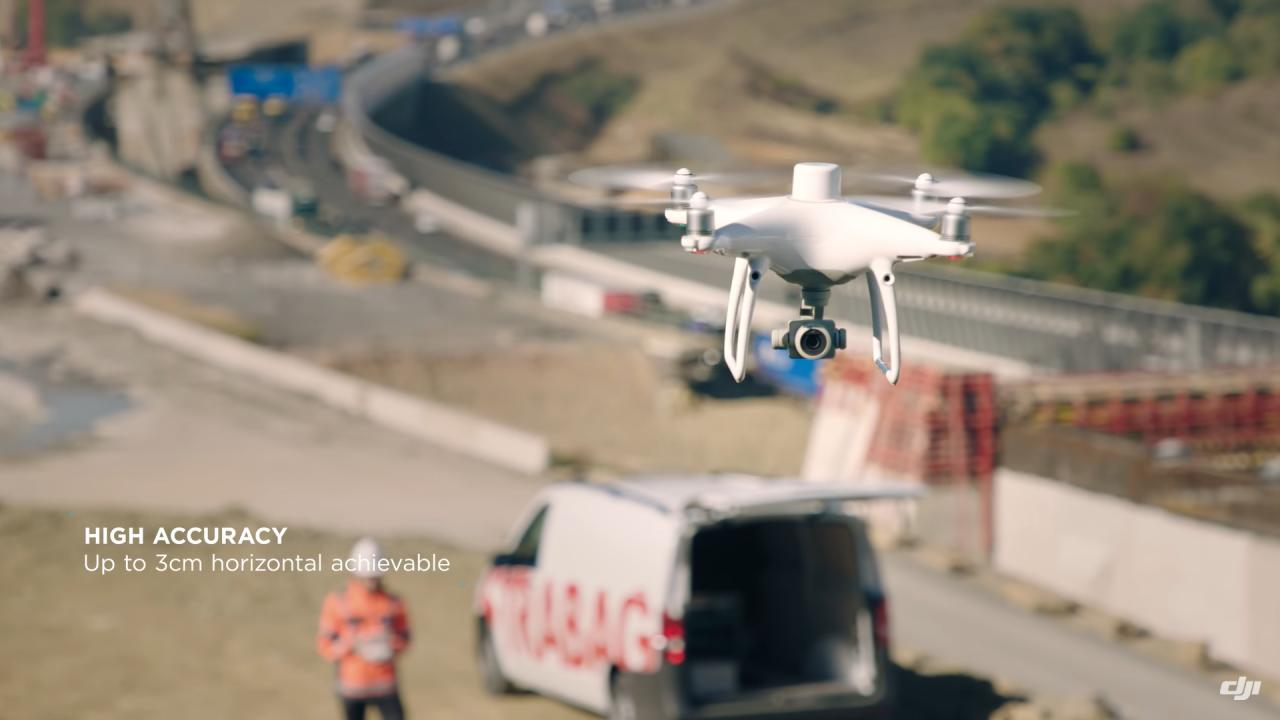Drone: (548, 141, 1104, 403)
